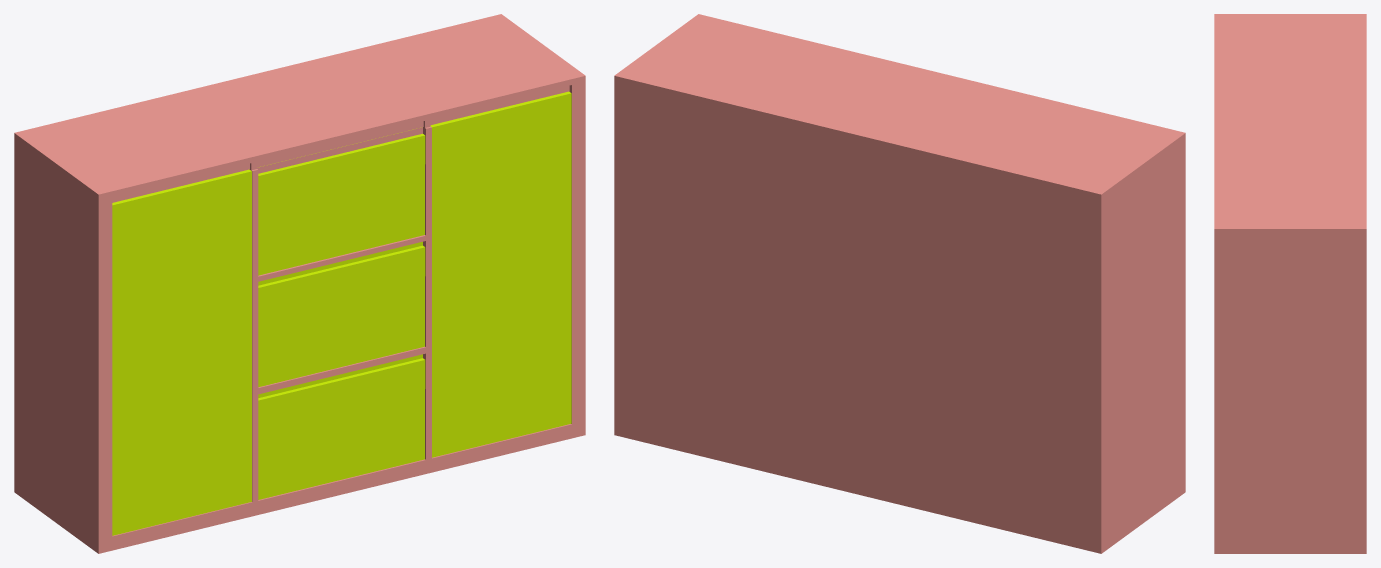
File: DrawerChest.fbx
3 views of the same model, side by side, from view 1: azimuth 30°, elevation 25°; view 2: azimuth 150°, elevation 25°; view 3: azimuth 270°, elevation 25° (orthographic). The views are drawn at different scales.
Visible parts, largest first — view 1: commode, porte_gauche, porte_droite, Tiroir_3_005, Tiroir_1_001, Tiroir_2_001; view 2: commode; view 3: commode.
Boxes of the visible parts, x1=… form: commode: x1=14, y1=14, x2=585, y2=553; porte_gauche: x1=112, y1=169, x2=251, y2=535; porte_droite: x1=430, y1=91, x2=571, y2=457; Tiroir_3_005: x1=257, y1=127, x2=425, y2=275; Tiroir_1_001: x1=258, y1=354, x2=425, y2=499; Tiroir_2_001: x1=258, y1=241, x2=425, y2=387; commode: x1=614, y1=14, x2=1185, y2=553; commode: x1=1214, y1=14, x2=1366, y2=553.
Size of the model in its own units: 142 by 100 by 42.66.
